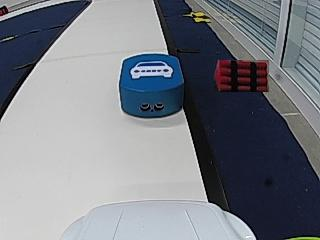safety: (130, 60, 175, 78)
